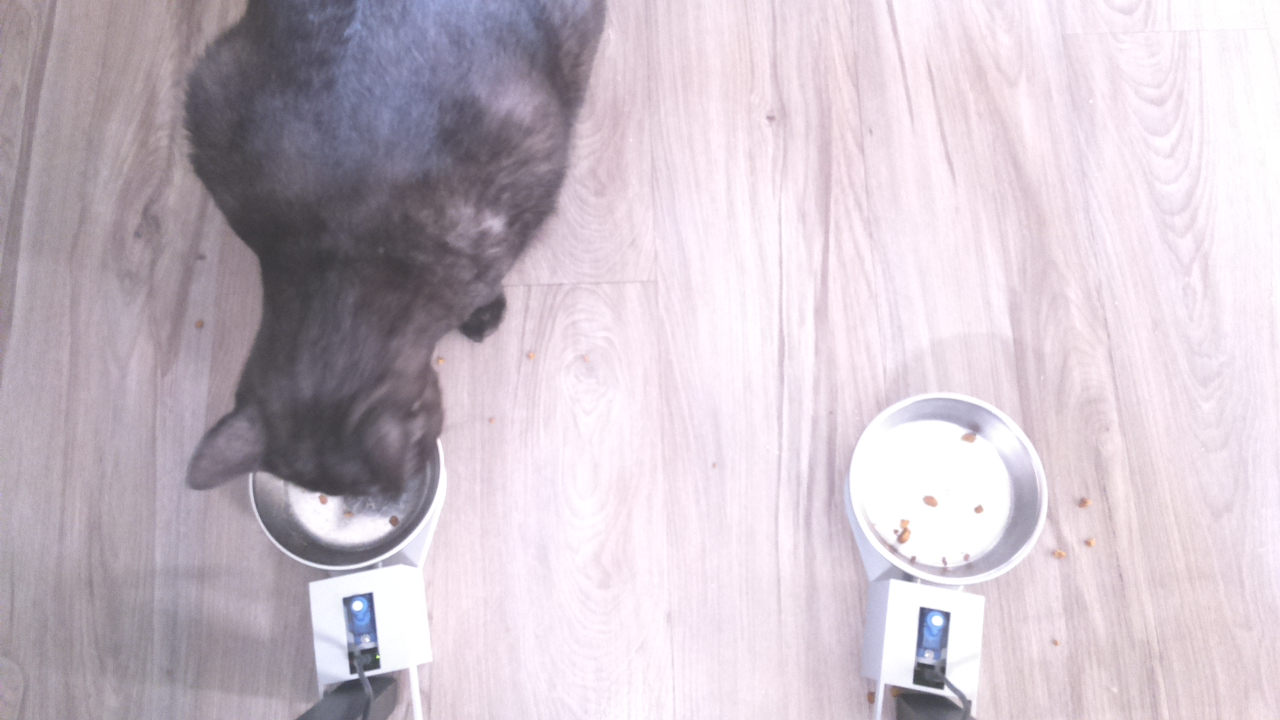open_bowl: (845, 387, 1057, 592)
saki_eating: (151, 286, 459, 561)
